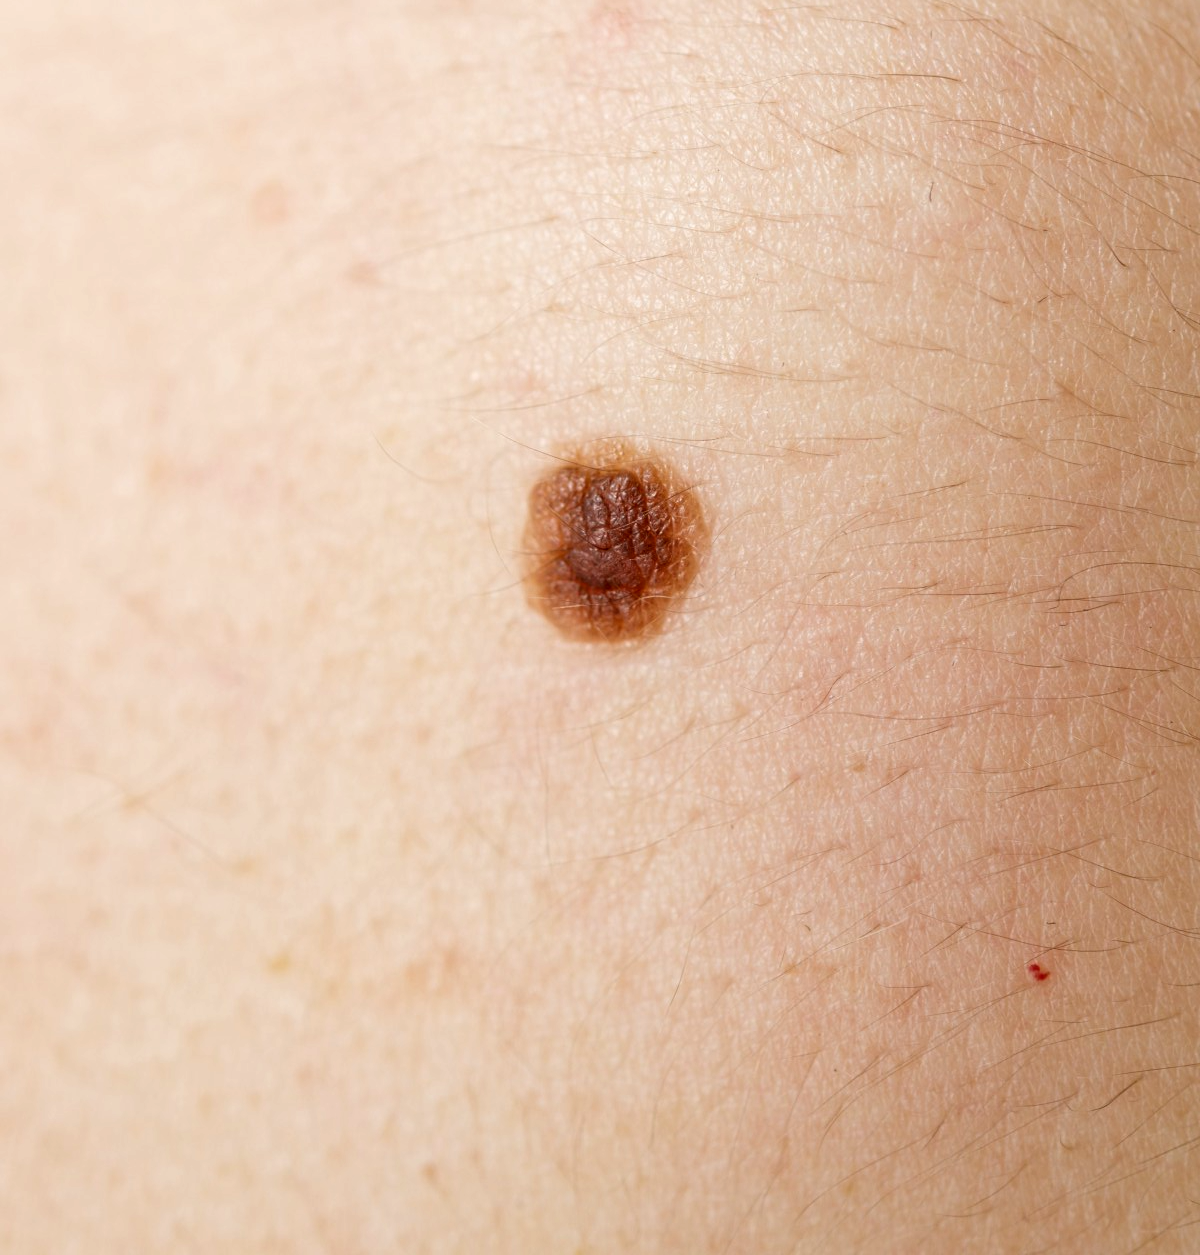Normal: (523, 453, 707, 650)
